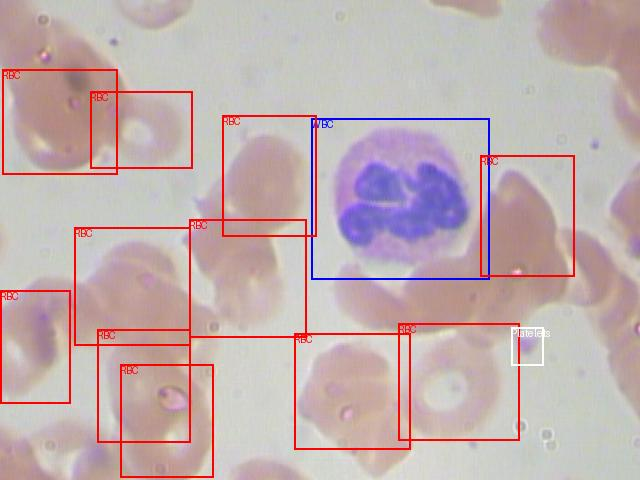Platelets: (511, 327, 543, 365)
RBC: (398, 323, 519, 440), (189, 219, 306, 337), (74, 227, 190, 345), (294, 333, 410, 449), (2, 69, 117, 174), (222, 115, 316, 236), (480, 155, 574, 276), (97, 329, 190, 442), (120, 364, 213, 477), (0, 290, 70, 403), (90, 91, 192, 168)
WBC: (311, 118, 489, 279)
